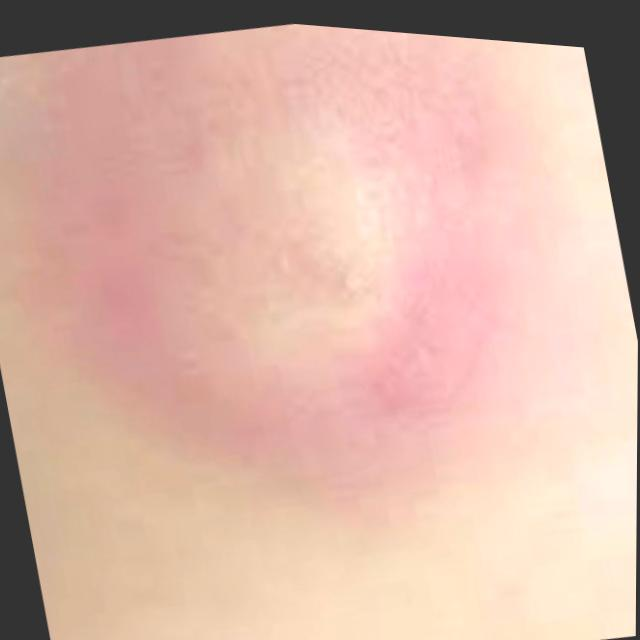nodule: (83, 32, 498, 470)
